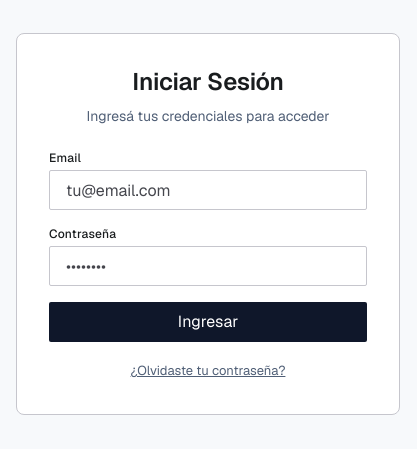
Scenario: LoginPage › shows error with invalid credentials
Type "wrong@test.com" into the field labelled "Email".
click(208, 190); type("wrong@test.com")  # box left=49, top=170, right=367, bottom=210
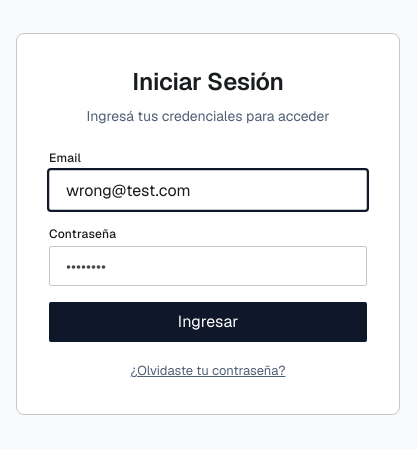
Type "wrong" into the password field labelled "Contraseña".
click(208, 266); type("wrong")  # box left=49, top=246, right=367, bottom=286
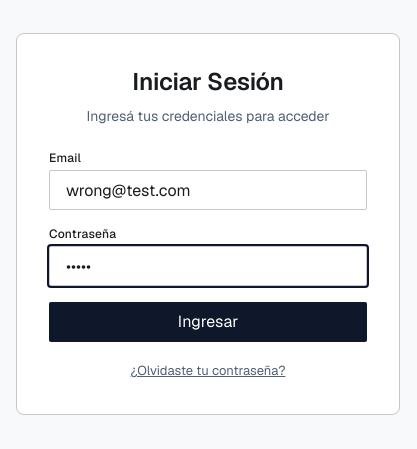
Click the button "Ingresar".
click(208, 322)  # box left=49, top=302, right=367, bottom=342
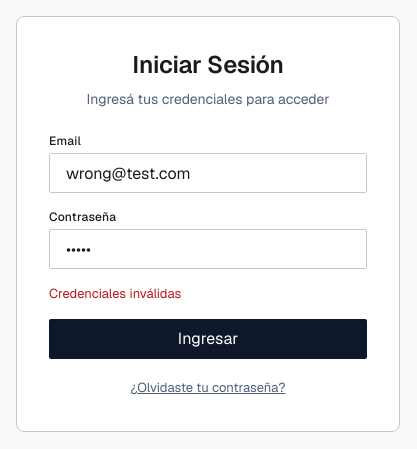
Check: the text "Credenciales inválidas" is shown, box left=49, top=285, right=181, bottom=302
